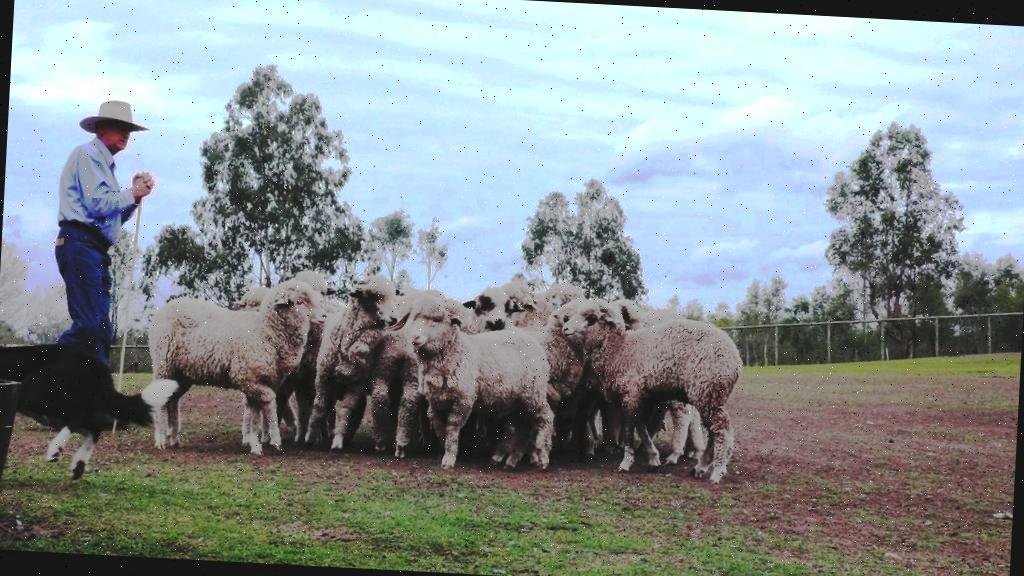Sheep: (552, 296, 746, 488), (143, 262, 327, 460), (404, 298, 560, 478), (322, 260, 396, 464), (602, 273, 704, 333), (461, 279, 519, 336)
